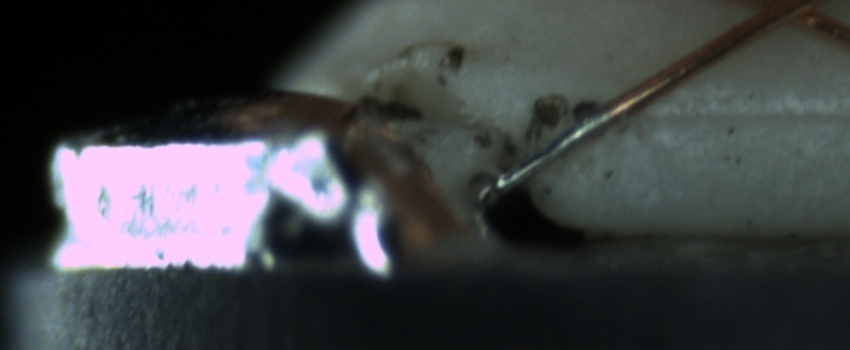CL: (738, 0, 848, 38)
DL: (628, 78, 844, 149)
TS: (493, 107, 613, 197)
